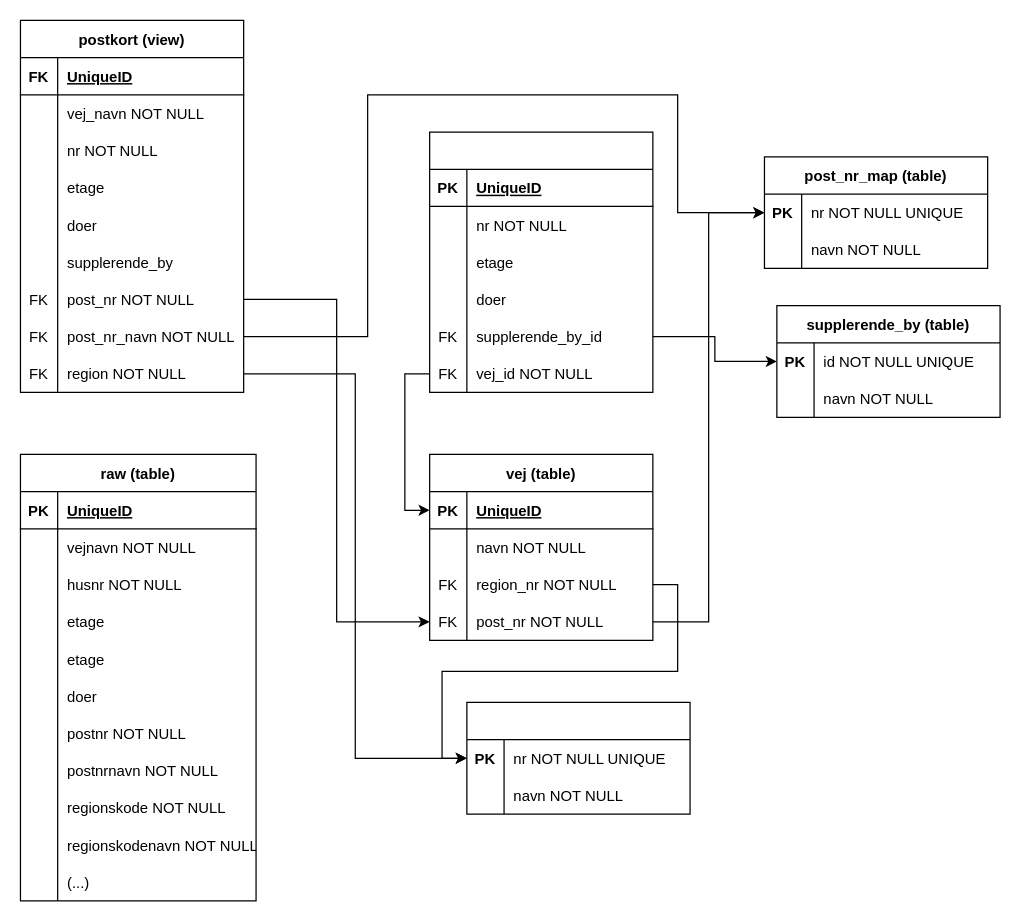
Image size: 1021x921. Some labels were removed from this diagram. Here are the shapes that lost their labels. From the top down, the box of each, then its label:
(428, 131, 653, 392): hus (table)
(466, 701, 690, 814): region_nr_map (table)
